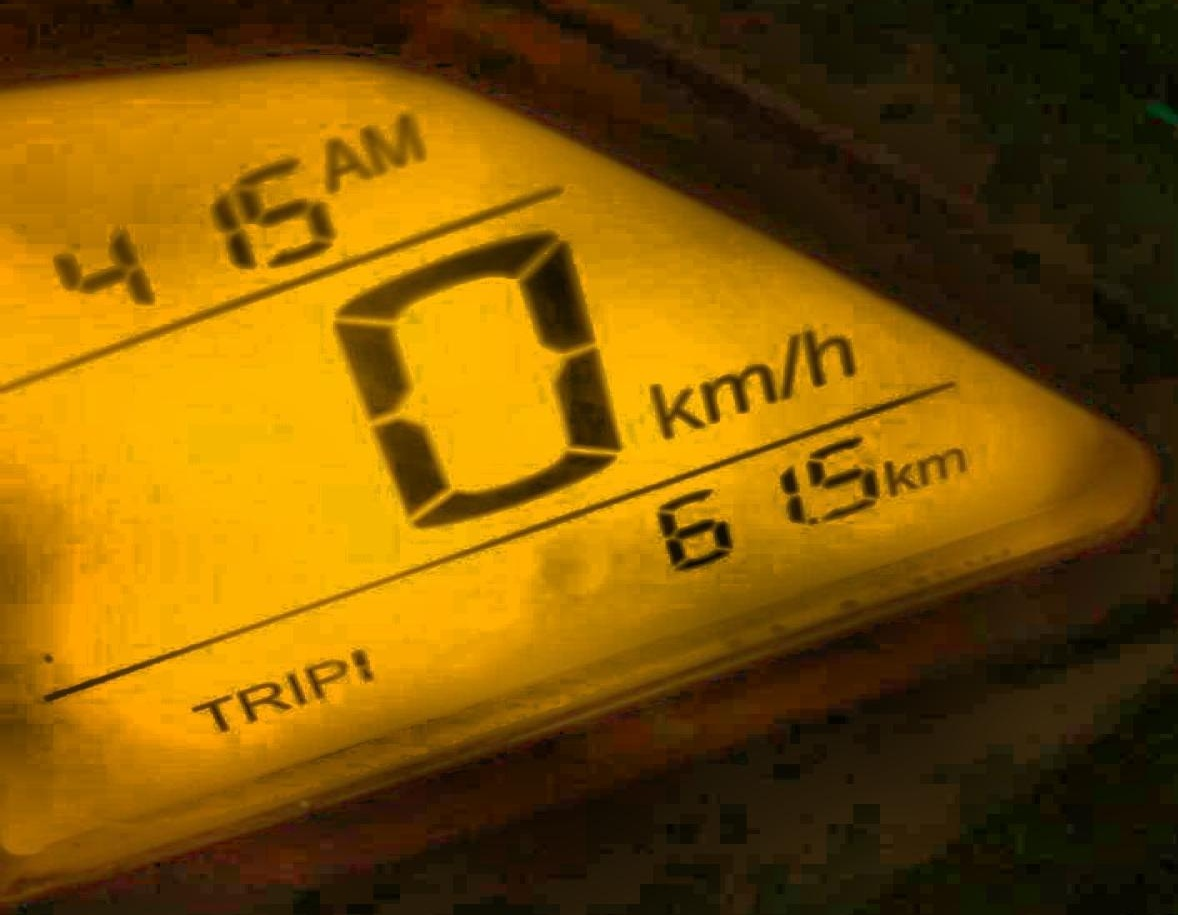-: (804, 514, 818, 529)
0: (328, 230, 621, 529)
1: (205, 193, 250, 276), (773, 464, 804, 524), (348, 645, 374, 681)
4: (53, 231, 149, 317)
5: (238, 157, 328, 266), (806, 434, 876, 519)
6: (655, 487, 731, 570)
X: (703, 363, 774, 424), (360, 112, 425, 171), (645, 378, 700, 438), (799, 326, 853, 383), (326, 138, 366, 191), (236, 680, 286, 720), (916, 446, 966, 486), (304, 659, 343, 696), (189, 695, 228, 730), (778, 332, 798, 397), (881, 456, 913, 495), (286, 671, 303, 705)
